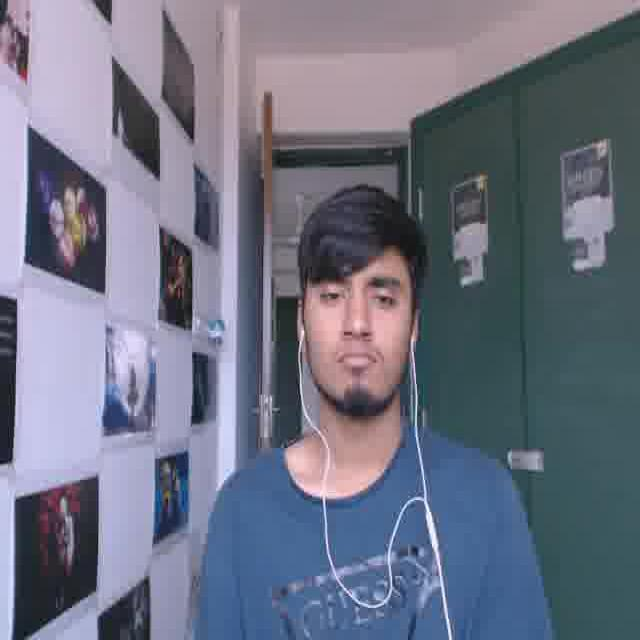Frustration: (303, 240, 405, 396)
